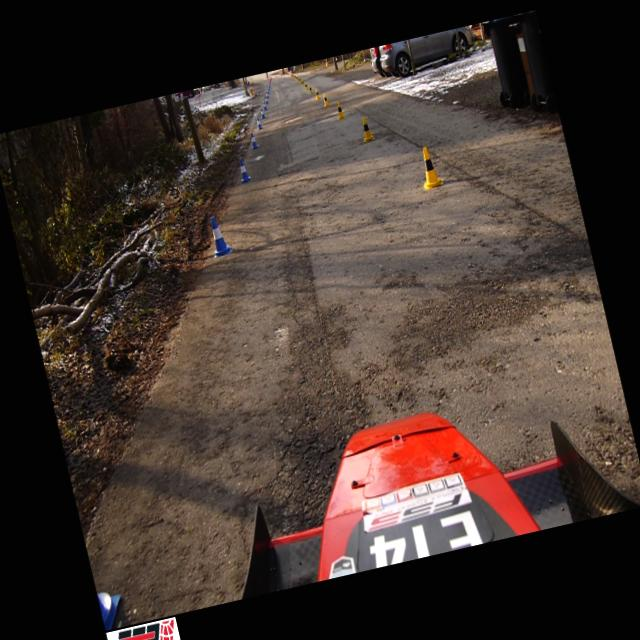blue_cone: (207, 214, 230, 256), (237, 158, 250, 182), (248, 132, 258, 148), (255, 116, 262, 130), (260, 107, 266, 118), (262, 101, 268, 110), (264, 95, 268, 104)
yellow_cone: (416, 145, 442, 188), (359, 115, 373, 140), (334, 100, 346, 118), (322, 92, 329, 105), (314, 88, 320, 100), (308, 84, 313, 93), (300, 79, 304, 86), (304, 82, 308, 88)
